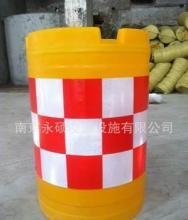sign: (19, 20, 153, 220)
